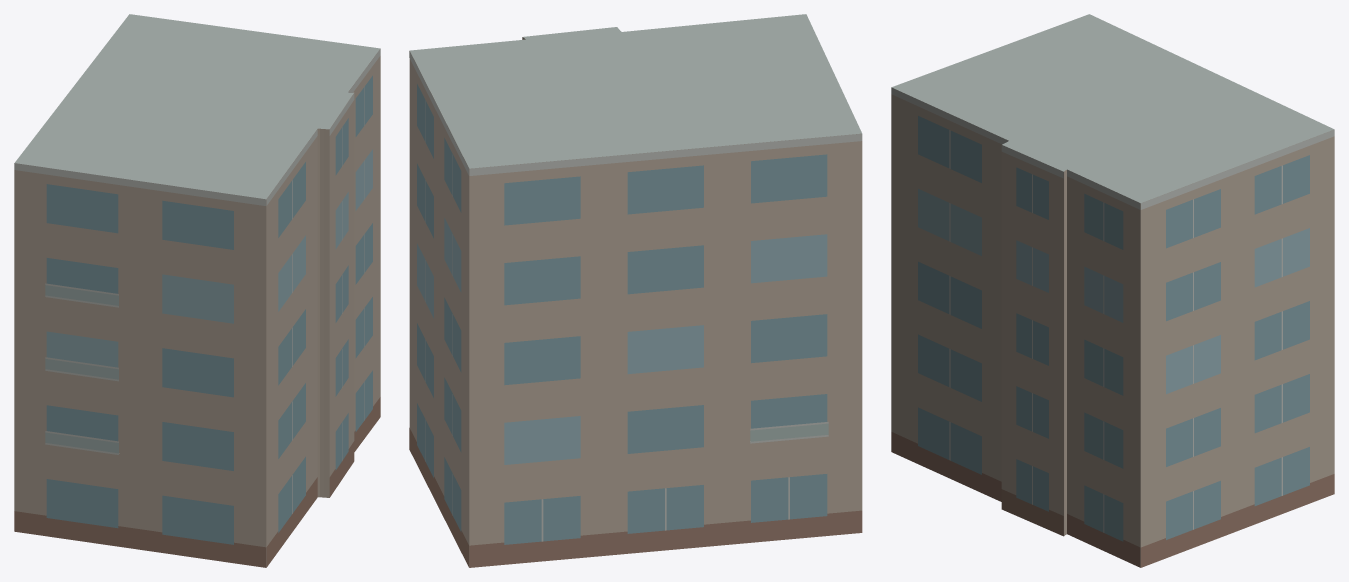
The model's file is survey-upis-33009029.glb.
3 renders of one model, left to right at view 1: azimuth 30°, elevation 25°; view 2: azimuth 150°, elevation 25°; view 3: azimuth 270°, elevation 25°, orthographic. The views are drawn at different scales.
Visible parts, largest first — view 1: survey-upis-33009029.tmp; view 2: survey-upis-33009029.tmp; view 3: survey-upis-33009029.tmp.
Boxes of the visible parts, left/top/right/bottom form: survey-upis-33009029.tmp: left=14, top=14, right=380, bottom=567; survey-upis-33009029.tmp: left=409, top=14, right=862, bottom=567; survey-upis-33009029.tmp: left=891, top=14, right=1334, bottom=567.
Size of the model in its own units: 14.48 by 13 by 14.33.
